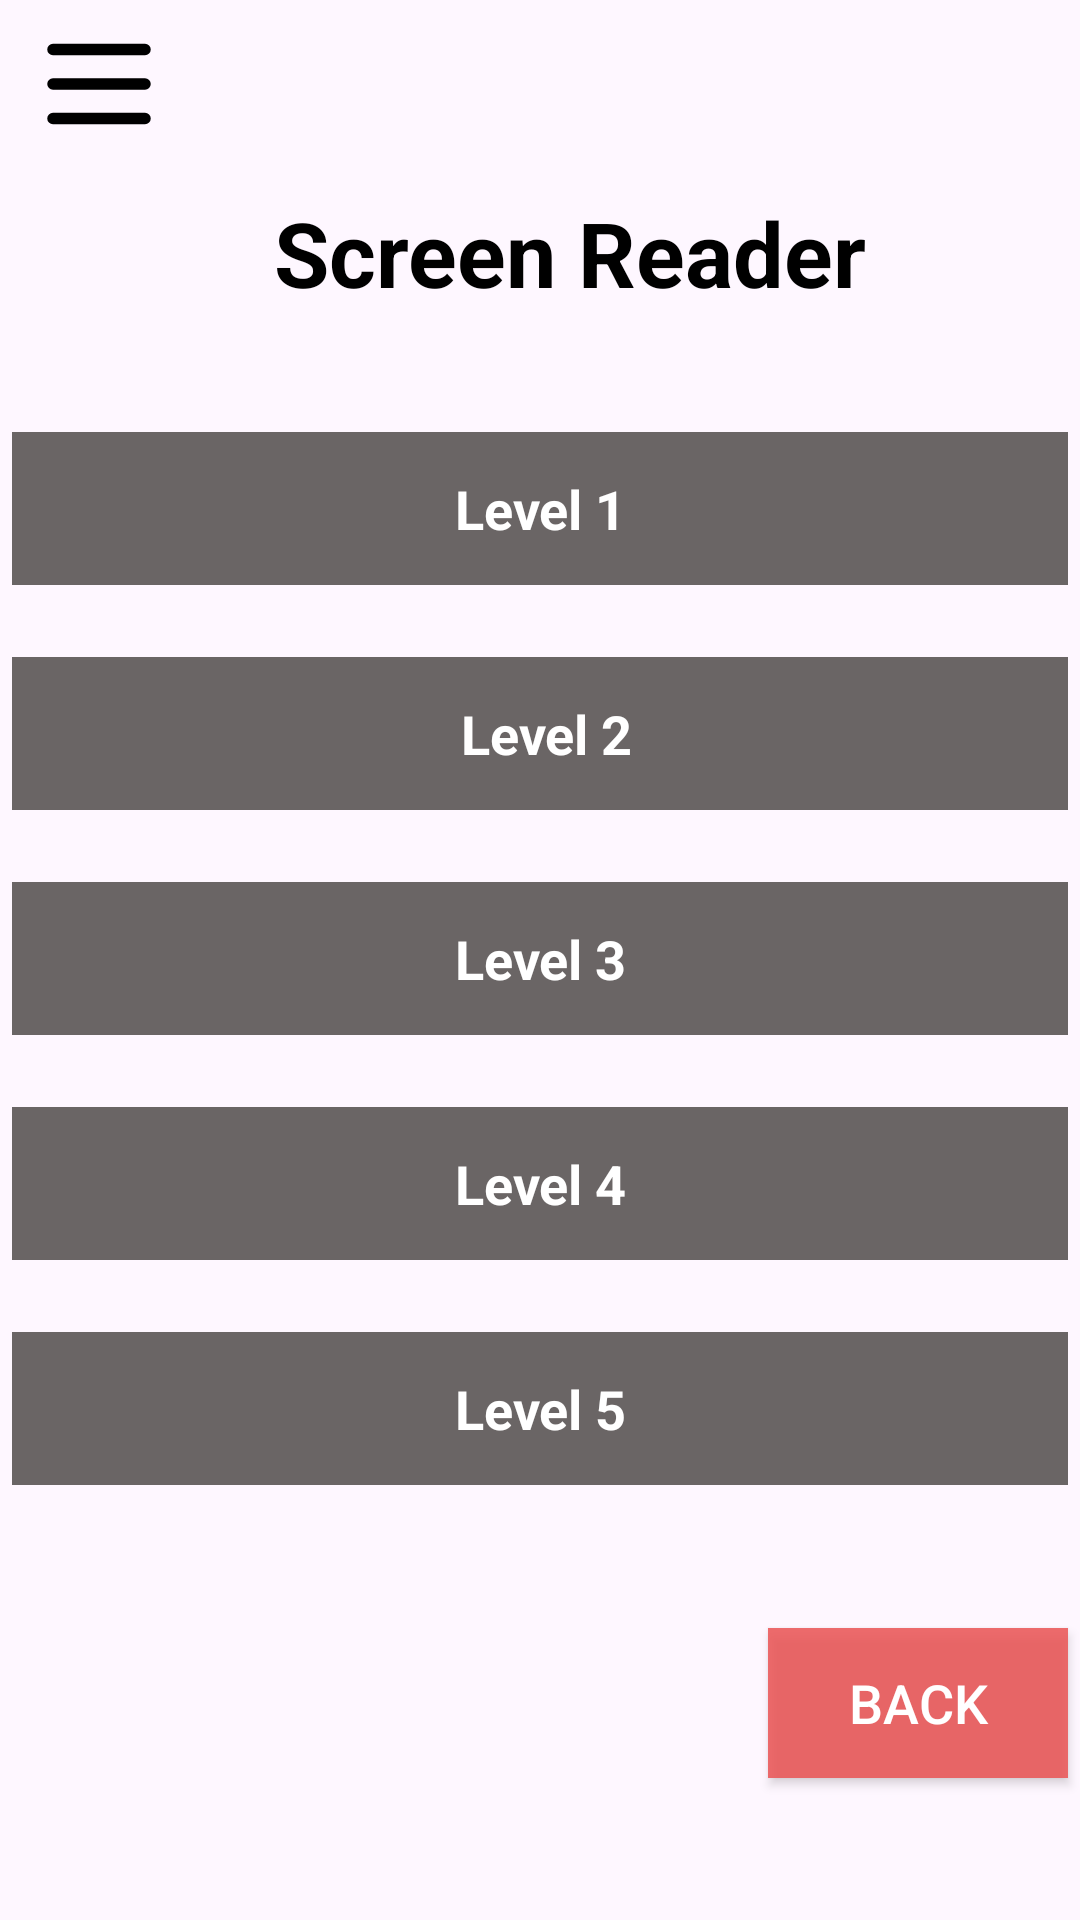

Point at icon controls on the screen. Image size 1080px x 1920px, points as [x,y].
menu: [99,84]
